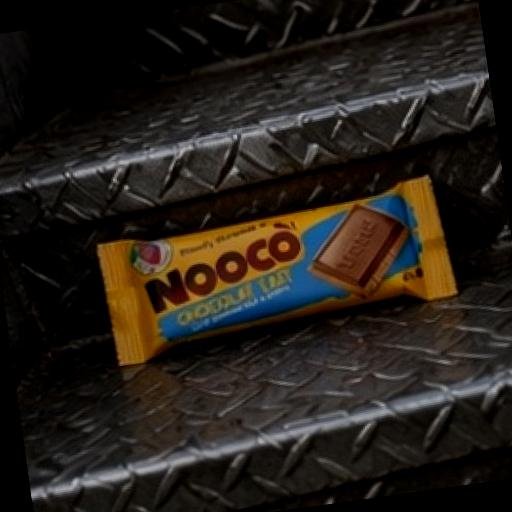biscuit-detection: (52, 142, 502, 392)
